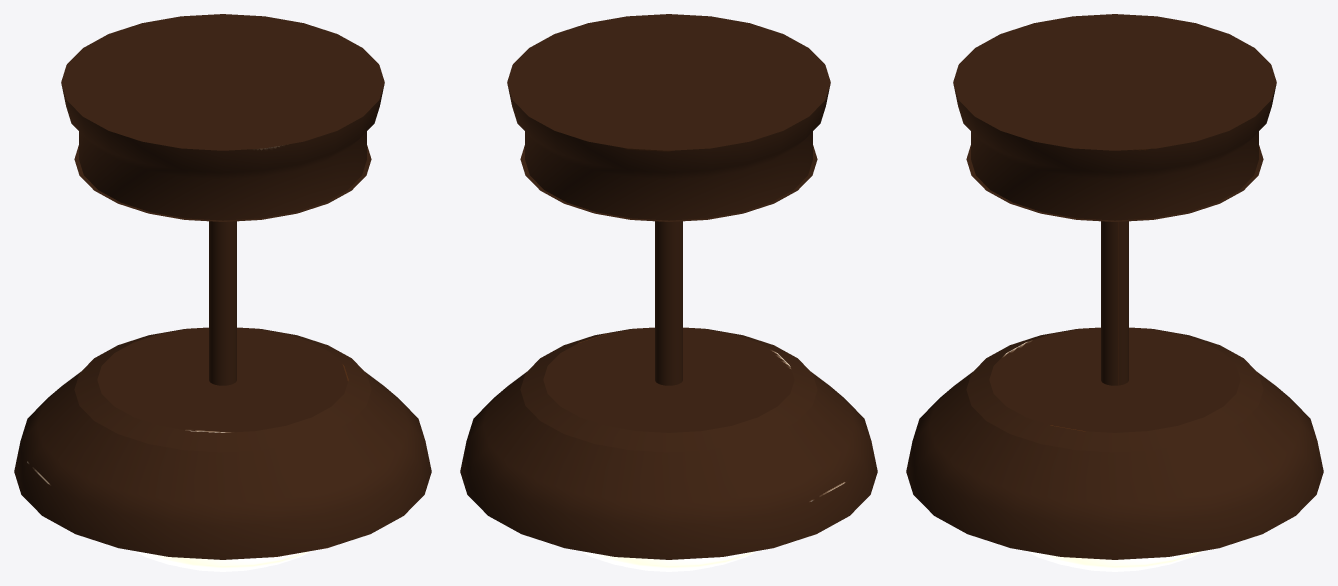
The model's file is fan.fbx.
The picture shows the model from 3 angles, left to right: view 1: azimuth 30°, elevation 25°; view 2: azimuth 150°, elevation 25°; view 3: azimuth 270°, elevation 25°; orthographic projection.
Parts seen in each view (by area): view 1: pCylinder3, top, pCylinder2, bottom; view 2: pCylinder3, top, pCylinder2, bottom; view 3: pCylinder3, top, pCylinder2, bottom.
Boxes of the visible parts, x1,y1,x2,y2 form: pCylinder3: [14, 327, 431, 559]; top: [61, 14, 384, 221]; pCylinder2: [209, 221, 236, 385]; bottom: [135, 551, 310, 571]; pCylinder3: [460, 327, 877, 559]; top: [507, 14, 830, 221]; pCylinder2: [655, 221, 682, 385]; bottom: [581, 551, 756, 571]; pCylinder3: [906, 327, 1323, 559]; top: [953, 14, 1276, 221]; pCylinder2: [1101, 221, 1128, 385]; bottom: [1027, 551, 1202, 571].
Size of what is drawn, in the model's own units: 148 by 178 by 148.
